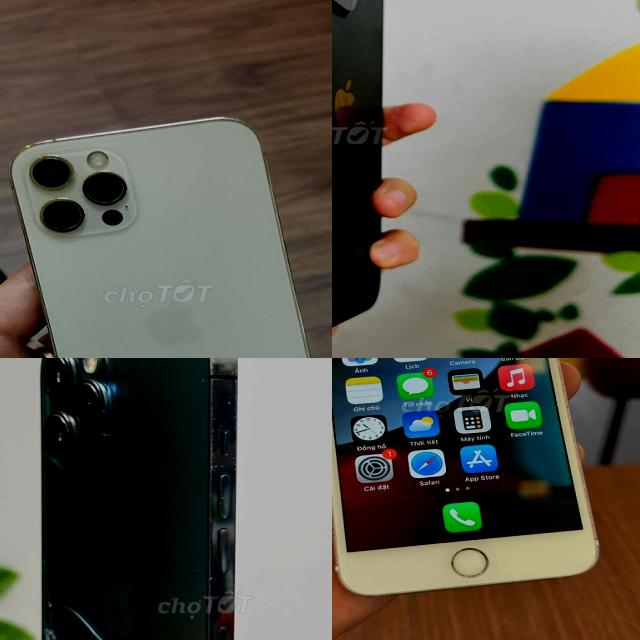physical_damage: (27, 567, 153, 640)
scratch: (194, 358, 238, 640)
